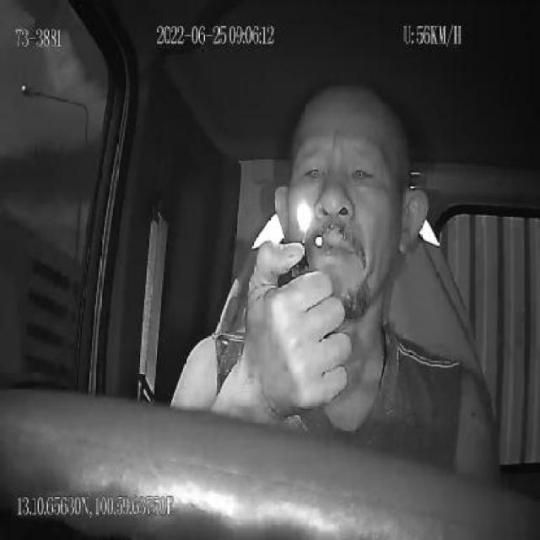smoking: (313, 230, 331, 254)
